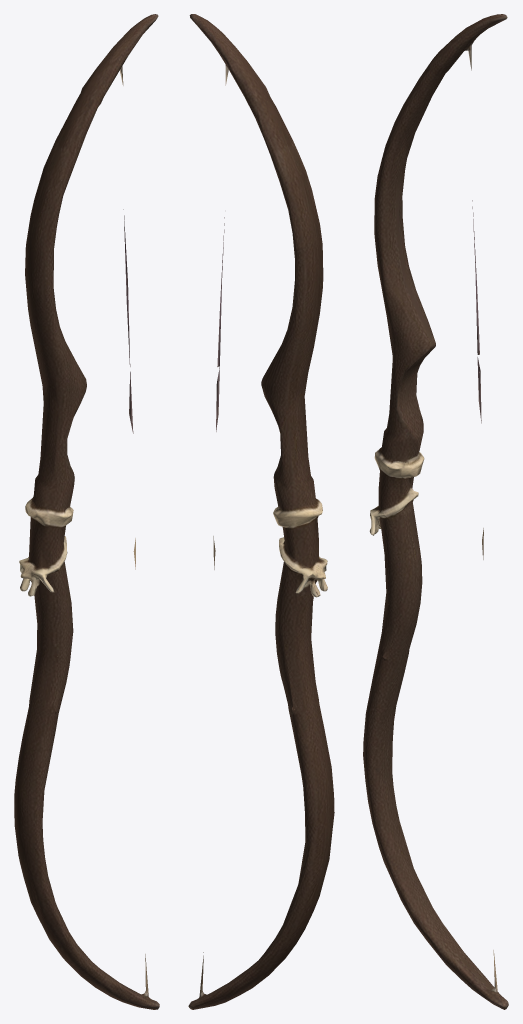
File: wpn_cung-viet.glb
The picture shows the model from 3 angles, left to right: view 1: azimuth 30°, elevation 25°; view 2: azimuth 150°, elevation 25°; view 3: azimuth 330°, elevation 25°; orthographic projection.
Bounding box in the file's own units: 0.2816 × 1.9 × 0.1043.
Materials: 1 (1 with a texture image).
